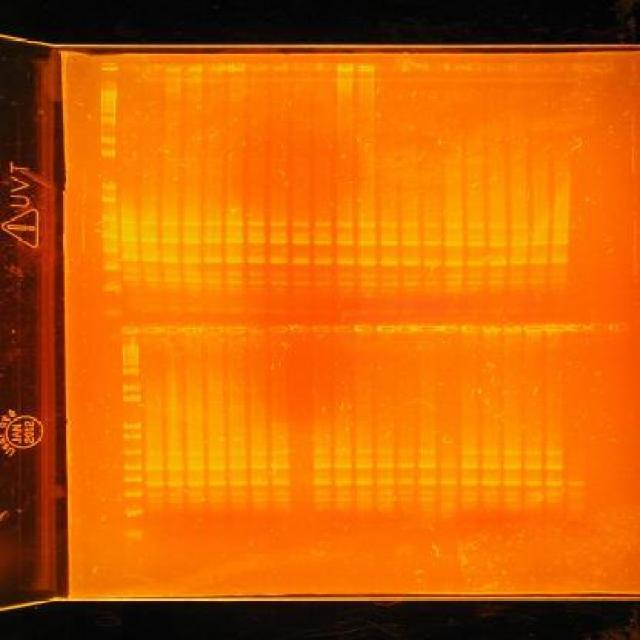B: (480, 476, 502, 487), (459, 476, 481, 487), (223, 254, 246, 264), (564, 478, 586, 488), (161, 254, 181, 264), (184, 304, 204, 314), (186, 478, 206, 488), (544, 478, 564, 488), (335, 477, 353, 488), (356, 476, 374, 487), (358, 258, 378, 267), (379, 258, 399, 267), (422, 258, 440, 268), (314, 256, 332, 266), (292, 256, 310, 266), (271, 477, 291, 486), (523, 478, 543, 487), (502, 477, 522, 486), (417, 478, 437, 487), (396, 477, 416, 486), (376, 477, 396, 486), (486, 240, 508, 248), (202, 256, 224, 264), (464, 222, 486, 230), (313, 478, 332, 487), (123, 264, 140, 274), (358, 220, 376, 229), (336, 220, 354, 229), (402, 258, 420, 267), (162, 267, 180, 276), (444, 259, 464, 267), (466, 259, 486, 267), (488, 259, 508, 267), (400, 238, 420, 246), (422, 239, 442, 247), (421, 222, 441, 230), (444, 239, 464, 247), (466, 240, 486, 248), (530, 238, 550, 246), (268, 256, 288, 264), (181, 256, 201, 264), (246, 237, 266, 245), (291, 220, 311, 228), (269, 219, 289, 227), (182, 268, 202, 276), (120, 253, 140, 261), (488, 223, 508, 231), (466, 272, 486, 280), (402, 272, 422, 280), (422, 272, 442, 280), (204, 306, 224, 314), (228, 478, 248, 486), (250, 478, 270, 486), (438, 478, 458, 486), (143, 464, 163, 472), (523, 463, 543, 471), (417, 448, 437, 456), (481, 489, 501, 497), (250, 489, 270, 497), (228, 490, 248, 498), (529, 257, 548, 265), (358, 280, 377, 288), (247, 256, 266, 264), (269, 237, 288, 245), (313, 220, 332, 228), (247, 219, 266, 227), (224, 278, 243, 286), (224, 269, 243, 277), (183, 276, 202, 284), (204, 277, 223, 285), (203, 268, 222, 276), (549, 269, 568, 277), (552, 222, 571, 230), (269, 270, 288, 278), (246, 270, 265, 278), (528, 269, 547, 277), (226, 306, 245, 314), (145, 480, 164, 488), (208, 479, 227, 487), (166, 464, 185, 472), (545, 490, 564, 498), (438, 489, 457, 497), (313, 489, 332, 497), (186, 490, 205, 498), (187, 497, 206, 505), (273, 497, 292, 505), (249, 450, 268, 458), (502, 504, 521, 512), (313, 496, 332, 504), (120, 235, 138, 243), (358, 238, 376, 246), (380, 238, 398, 246), (380, 220, 398, 228), (336, 258, 354, 266), (402, 220, 420, 228), (550, 256, 568, 264), (336, 272, 354, 280), (336, 280, 354, 288), (358, 272, 376, 280), (314, 238, 332, 246), (380, 280, 398, 288), (402, 280, 420, 288), (444, 272, 462, 280), (315, 280, 333, 288), (142, 274, 160, 282), (444, 222, 462, 230), (460, 489, 478, 497), (376, 488, 394, 496), (356, 489, 374, 497), (334, 488, 352, 496), (272, 489, 290, 497), (208, 490, 226, 498), (335, 503, 353, 511), (376, 504, 394, 512), (356, 504, 374, 512), (550, 238, 570, 245), (140, 255, 160, 262), (144, 491, 164, 498), (510, 258, 527, 266), (163, 275, 180, 283), (509, 270, 526, 278), (168, 480, 185, 488), (543, 450, 565, 456), (565, 491, 587, 497), (336, 238, 354, 245), (509, 241, 529, 247), (291, 280, 311, 286), (139, 237, 159, 243), (160, 238, 180, 244), (160, 221, 180, 227), (138, 220, 158, 226), (549, 278, 569, 284), (269, 463, 289, 469), (312, 463, 332, 469), (544, 464, 564, 470), (502, 464, 522, 470), (481, 463, 501, 469), (417, 463, 437, 469), (523, 450, 543, 456), (523, 490, 543, 496), (502, 490, 522, 496), (396, 490, 416, 496), (544, 498, 564, 504), (522, 498, 542, 504), (480, 497, 500, 503), (291, 232, 311, 238), (168, 491, 185, 498), (509, 223, 528, 229), (269, 280, 288, 286), (225, 238, 244, 244), (528, 278, 547, 284), (207, 464, 226, 470), (228, 464, 247, 470), (166, 452, 185, 458), (145, 498, 164, 504), (229, 497, 248, 503), (438, 502, 457, 508), (269, 231, 288, 237), (313, 232, 332, 238), (292, 238, 310, 244), (486, 278, 504, 284), (488, 272, 506, 278), (466, 280, 484, 286), (444, 280, 462, 286), (508, 278, 526, 284), (182, 238, 200, 244), (204, 238, 222, 244), (204, 220, 222, 226), (532, 224, 550, 230), (380, 273, 398, 279), (334, 463, 352, 469), (460, 463, 478, 469), (355, 463, 373, 469), (482, 450, 500, 456), (460, 450, 478, 456), (397, 448, 415, 454), (228, 450, 246, 456), (418, 490, 436, 496), (208, 498, 226, 504), (250, 497, 268, 503), (502, 497, 520, 503), (460, 497, 478, 503), (418, 496, 436, 502), (334, 496, 352, 502), (376, 497, 394, 503), (356, 497, 374, 503), (314, 504, 332, 510), (397, 496, 415, 502), (423, 281, 440, 287), (226, 221, 243, 227), (183, 221, 200, 227), (120, 220, 137, 226), (123, 274, 140, 280), (208, 450, 225, 456), (168, 498, 185, 504), (269, 450, 289, 455), (502, 450, 522, 455), (312, 450, 332, 455), (248, 278, 264, 284), (333, 450, 352, 455), (355, 450, 373, 455), (376, 450, 394, 455), (187, 465, 204, 470), (248, 464, 268, 468), (376, 464, 396, 468), (144, 452, 164, 456), (249, 504, 269, 508), (480, 504, 500, 508), (187, 452, 206, 456), (523, 504, 542, 508), (440, 464, 458, 468), (397, 464, 415, 468), (460, 504, 478, 508), (418, 504, 436, 508)
L: (115, 320, 632, 338), (92, 59, 618, 75)
M: (96, 80, 122, 322), (119, 340, 144, 542)
P: (98, 281, 120, 294), (98, 305, 120, 318), (98, 134, 118, 148), (98, 114, 118, 128), (98, 146, 117, 160), (100, 262, 120, 273), (99, 243, 119, 254), (99, 230, 119, 241), (122, 462, 142, 472), (122, 489, 144, 498), (122, 367, 140, 378), (98, 182, 117, 192), (98, 214, 118, 223), (122, 530, 142, 538), (123, 508, 143, 516), (123, 475, 143, 483), (122, 448, 142, 456), (98, 195, 117, 203), (123, 422, 142, 430), (123, 432, 142, 440), (122, 384, 141, 392), (122, 394, 140, 402)
Pc: (593, 62, 615, 73), (266, 323, 288, 334), (288, 323, 310, 334), (480, 323, 502, 334), (353, 323, 375, 334), (508, 60, 528, 72), (162, 324, 182, 336), (226, 324, 246, 336), (228, 61, 246, 74), (98, 62, 120, 72), (486, 62, 506, 73), (419, 62, 441, 72), (118, 324, 140, 334), (586, 322, 608, 332), (544, 322, 564, 333), (524, 323, 544, 334), (502, 323, 522, 334), (460, 323, 480, 334), (396, 324, 418, 334), (375, 324, 397, 334), (333, 323, 353, 334), (310, 324, 332, 334), (206, 62, 227, 72), (141, 63, 164, 72), (119, 63, 141, 72), (416, 324, 438, 333), (248, 62, 267, 72), (336, 62, 354, 72), (315, 62, 333, 72), (357, 62, 375, 72), (572, 63, 592, 72), (528, 63, 548, 72), (466, 62, 484, 72), (442, 61, 462, 70), (142, 324, 160, 334), (608, 323, 628, 332), (566, 323, 586, 332), (439, 324, 459, 333), (293, 62, 310, 72), (164, 64, 182, 73), (270, 61, 288, 70), (380, 63, 398, 72), (550, 63, 568, 72), (183, 326, 203, 334), (247, 326, 267, 334), (186, 64, 203, 73), (205, 326, 224, 334), (400, 63, 418, 71)
